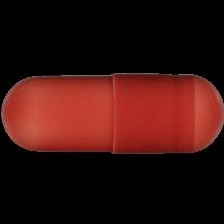0071-1017: (0, 0, 224, 224)
